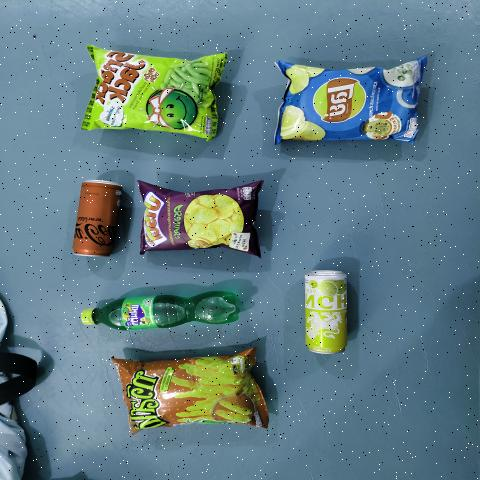coke_red: (75, 179, 123, 259)
fanta_green: (79, 290, 232, 334)
lay_blue: (289, 64, 413, 137)
party_purple: (145, 190, 250, 248)
singha_yellow: (308, 274, 342, 357)
snack_jack: (95, 56, 209, 128)
twisco: (128, 359, 244, 422)
